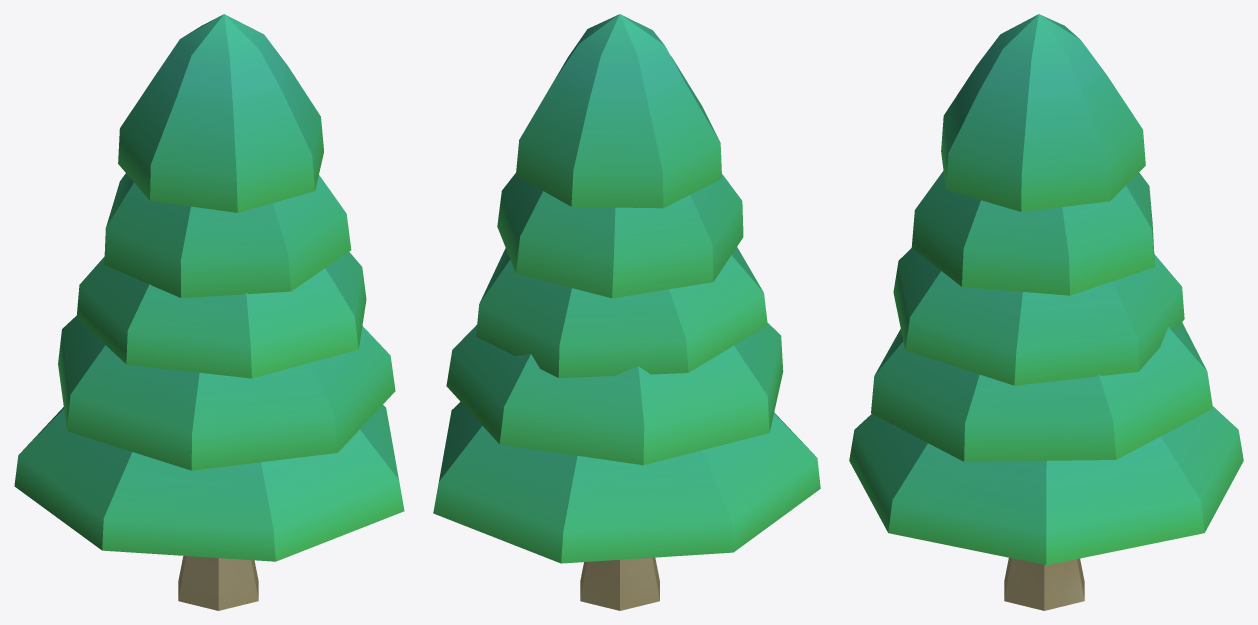
Rendered from Qtree2.fbx.
The picture shows the model from 3 angles, left to right: view 1: azimuth 30°, elevation 25°; view 2: azimuth 150°, elevation 25°; view 3: azimuth 270°, elevation 25°; orthographic projection.
Visible parts, largest first — view 1: pasted__pCone1 (×2), pCone1, pasted__pasted__pasted__pCone1, pasted__pasted__pCone1, pCylinder1; view 2: pasted__pCone1 (×2), pCone1, pasted__pasted__pasted__pCone1, pasted__pasted__pCone1, pCylinder1; view 3: pasted__pCone1 (×2), pCone1, pasted__pasted__pasted__pCone1, pasted__pasted__pCone1, pCylinder1.
Boxes of the visible parts, x1=… form: pasted__pCone1 (×2): x1=58, y1=252, x2=395, y2=470; pCone1: x1=14, y1=405, x2=404, y2=561; pasted__pasted__pasted__pCone1: x1=118, y1=14, x2=323, y2=212; pasted__pasted__pCone1: x1=104, y1=173, x2=351, y2=298; pCylinder1: x1=178, y1=556, x2=258, y2=610; pasted__pCone1 (×2): x1=446, y1=247, x2=783, y2=465; pCone1: x1=433, y1=402, x2=820, y2=563; pasted__pasted__pasted__pCone1: x1=516, y1=14, x2=721, y2=208; pasted__pasted__pCone1: x1=497, y1=173, x2=743, y2=298; pCylinder1: x1=580, y1=557, x2=659, y2=610; pasted__pCone1 (×2): x1=871, y1=248, x2=1212, y2=461; pCone1: x1=849, y1=406, x2=1243, y2=565; pasted__pasted__pasted__pCone1: x1=941, y1=14, x2=1145, y2=211; pasted__pasted__pCone1: x1=911, y1=171, x2=1154, y2=295; pCylinder1: x1=1004, y1=558, x2=1084, y2=610.
Size of the model in its own units: 13.68 by 22.71 by 14.03.
Materials: 1 (1 with a texture image).
